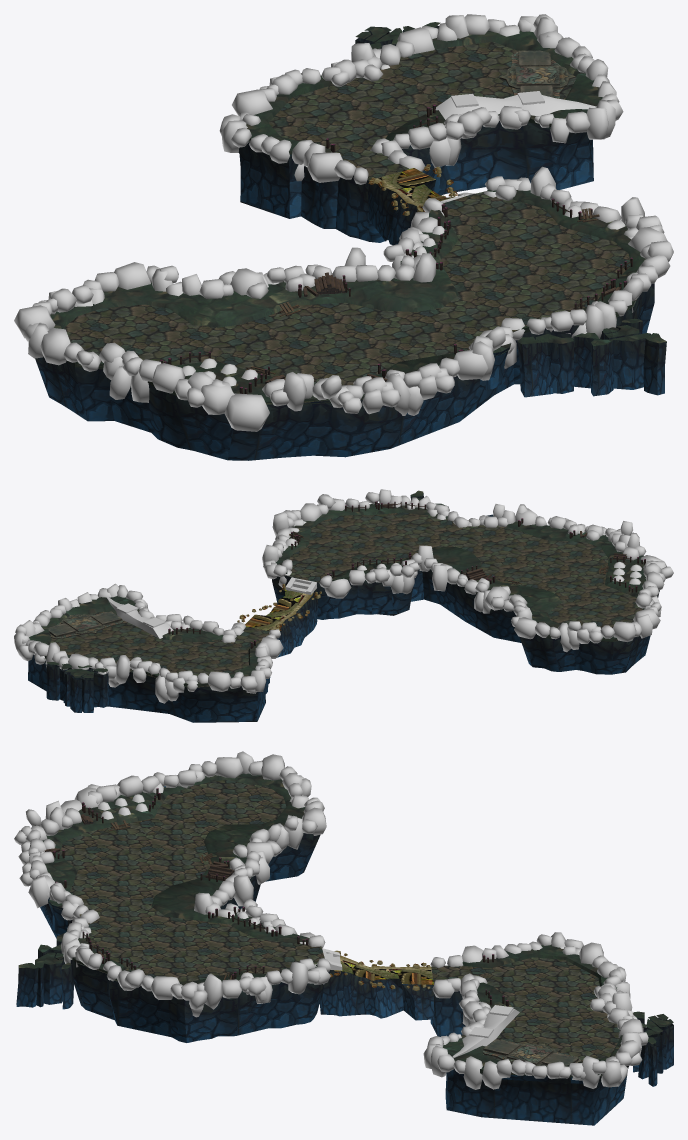
The model's file is thebot_door_03terrain.FBX.
The picture shows the model from 3 angles, top to bottom: view 1: azimuth 30°, elevation 25°; view 2: azimuth 150°, elevation 25°; view 3: azimuth 270°, elevation 25°; orthographic projection. The views are drawn at different scales.
Visible parts, largest first — view 1: shitou01, dimian1, yanbi, dimian03, huawen07, shitou01_ncl1_1, qiao; view 2: shitou01, dimian1, yanbi, dimian03, qiao, huawen07, shitou01_ncl1_1, shitou01_ncl1_3; view 3: dimian1, shitou01, yanbi, dimian03, qiao, huawen07, shitou01_ncl1_1.
Boxes of the visible parts, left/top/right/bottom form: shitou01: left=14, top=14, right=673, bottom=431; dimian1: left=63, top=42, right=636, bottom=404; yanbi: left=35, top=25, right=666, bottom=460; dimian03: left=50, top=22, right=666, bottom=406; huawen07: left=499, top=50, right=576, bottom=98; shitou01_ncl1_1: left=435, top=91, right=596, bottom=119; qiao: left=368, top=164, right=457, bottom=215; shitou01: left=14, top=489, right=673, bottom=703; dimian1: left=44, top=512, right=642, bottom=687; yanbi: left=28, top=493, right=659, bottom=722; dimian03: left=29, top=490, right=645, bottom=687; qiao: left=237, top=584, right=321, bottom=631; huawen07: left=48, top=611, right=123, bottom=639; shitou01_ncl1_1: left=107, top=597, right=173, bottom=638; shitou01_ncl1_3: left=285, top=577, right=316, bottom=594; dimian1: left=59, top=779, right=619, bottom=1076; shitou01: left=14, top=751, right=648, bottom=1089; yanbi: left=16, top=786, right=673, bottom=1125; dimian03: left=18, top=773, right=673, bottom=1077; qiao: left=329, top=950, right=433, bottom=990; huawen07: left=483, top=1039, right=581, bottom=1065; shitou01_ncl1_1: left=452, top=1005, right=519, bottom=1058.
Bounding box in the file's own units: 12284 × 11768 × 1925.
